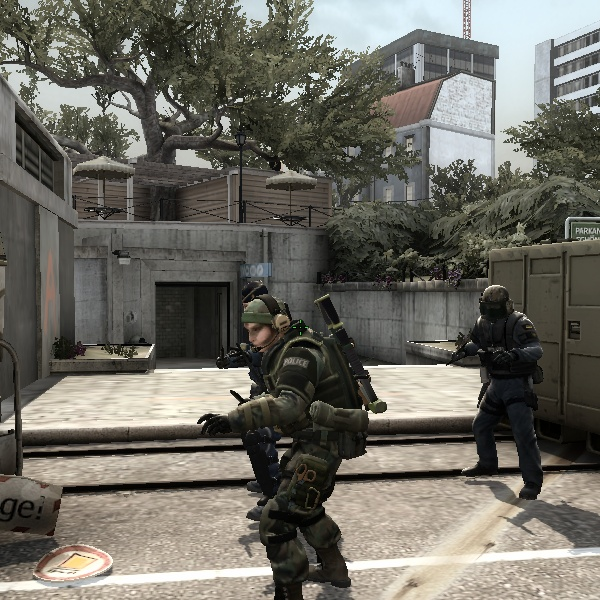ct_body: (193, 290, 401, 590), (431, 279, 571, 505)
ct_head: (233, 293, 301, 353), (471, 282, 528, 328)
